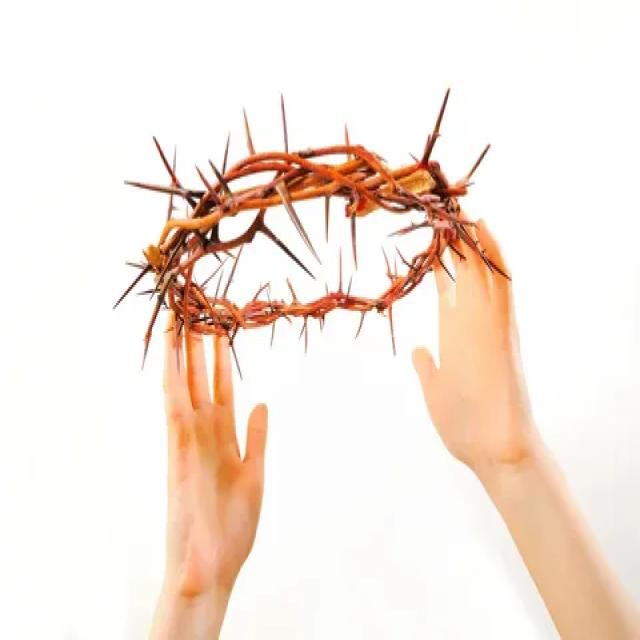crown: (126, 139, 502, 335)
